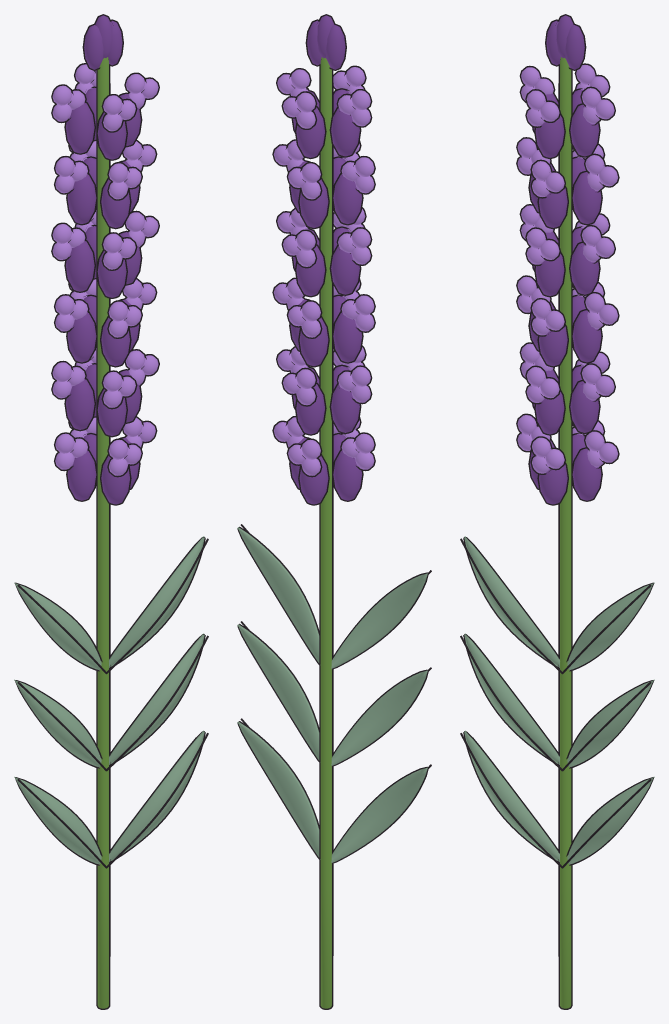
File: lavender_toon.glb
The picture shows the model from 3 angles, left to right: view 1: azimuth 30°, elevation 25°; view 2: azimuth 150°, elevation 25°; view 3: azimuth 330°, elevation 25°; orthographic projection.
Parts seen in each view (by area): view 1: lavender_Geometry; view 2: lavender_Geometry; view 3: lavender_Geometry.
Part boxes in pixels (x1=…): lavender_Geometry: x1=14, y1=14, x2=208, y2=1009; lavender_Geometry: x1=237, y1=14, x2=431, y2=1009; lavender_Geometry: x1=460, y1=14, x2=654, y2=1009.
Bounding box in the file's own units: 0.107 × 0.5325 × 0.0474.
